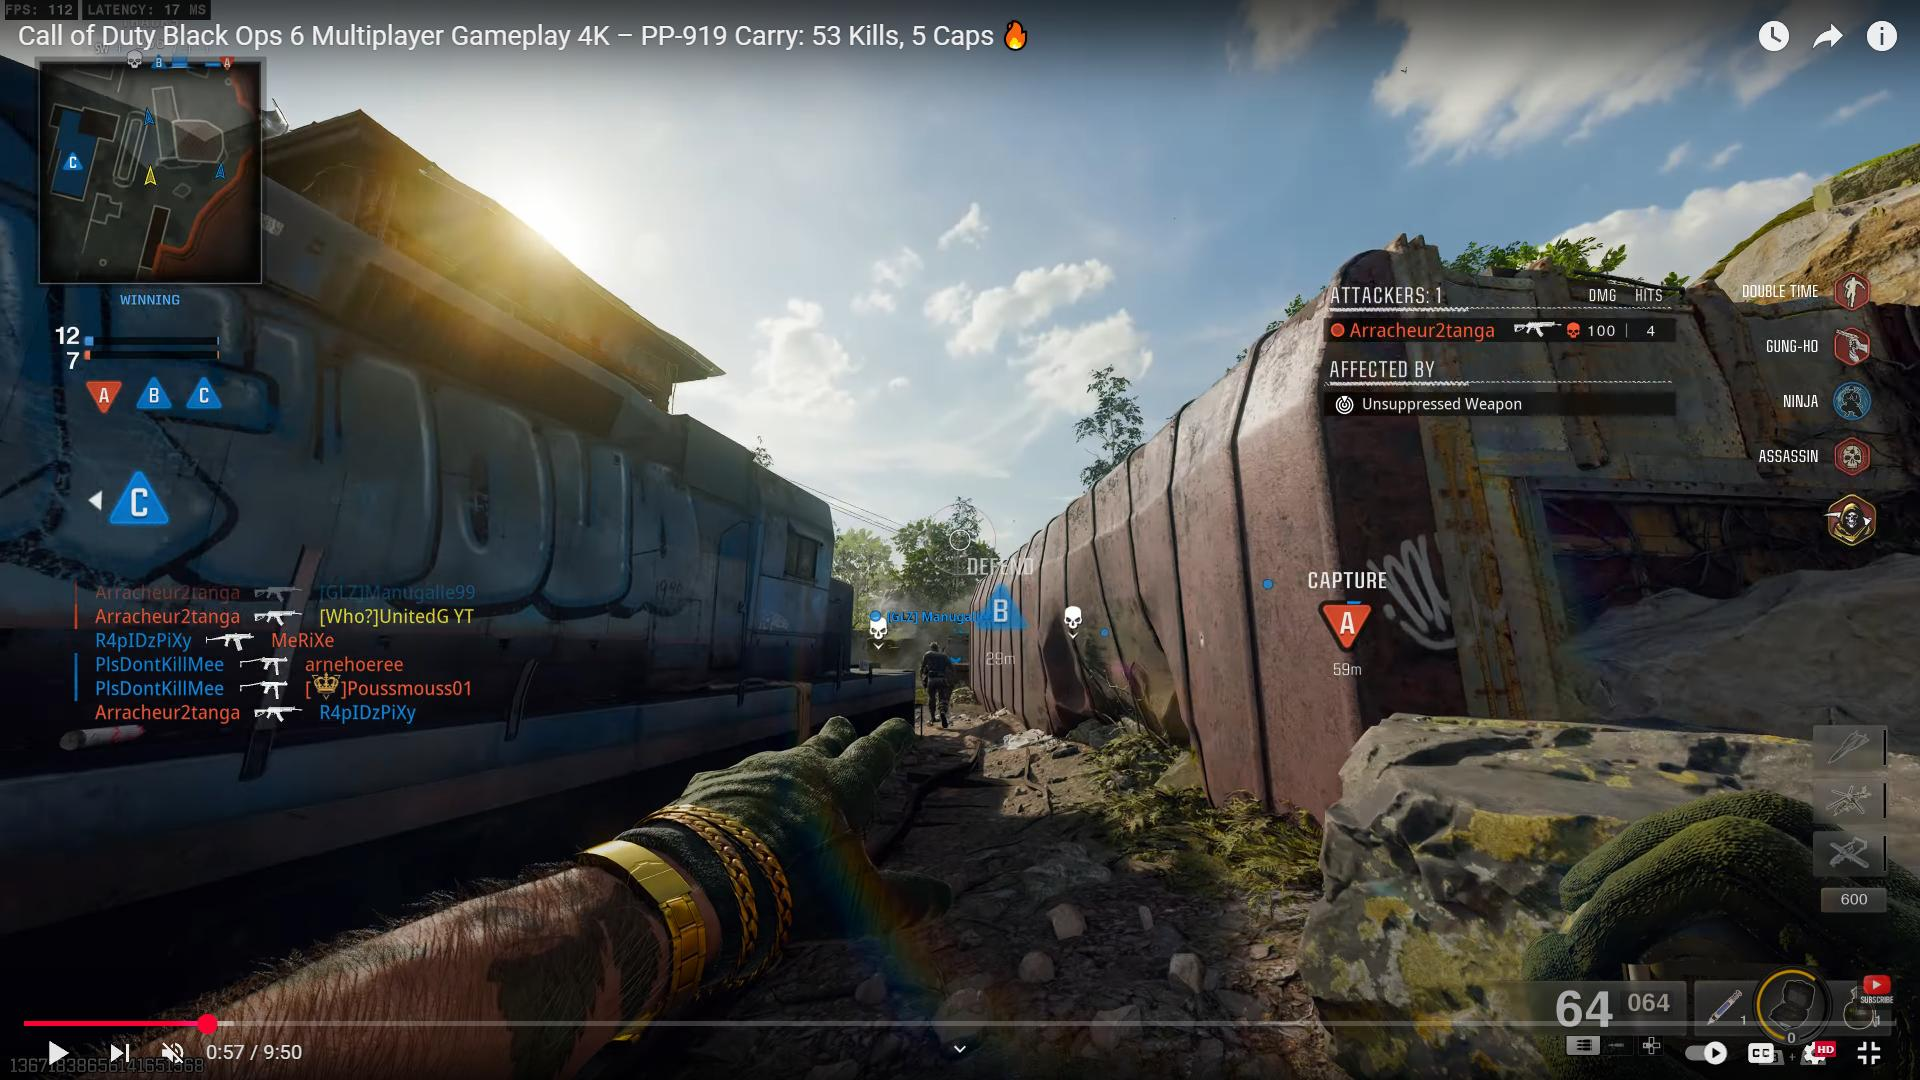Enemy: (909, 633, 961, 723)
